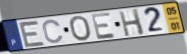2: (142, 6, 168, 36)
C: (42, 18, 65, 44)
E: (17, 20, 47, 49), (90, 11, 117, 41)
H: (118, 8, 147, 38)
O: (68, 15, 93, 42)
